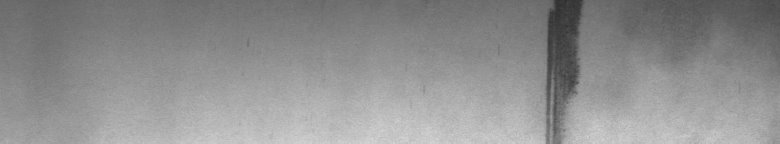hd: (540, 4, 588, 136)
